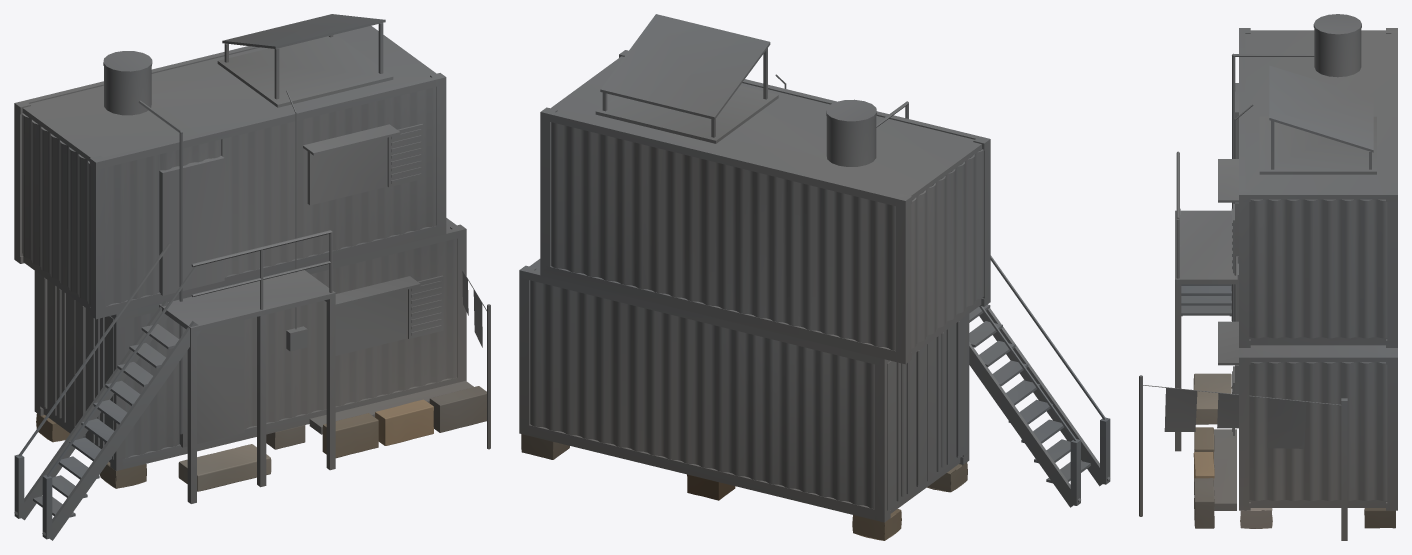
Rendered from WallHomeB_LOD0.glb.
3 renders of one model, left to right at view 1: azimuth 30°, elevation 25°; view 2: azimuth 150°, elevation 25°; view 3: azimuth 270°, elevation 25°, orthographic. The views are drawn at different scales.
Parts seen in each view (by area): view 1: WallHomeB_Metal_LOD0, WallHomeB_Rubble_LOD0, WallHomeB_Sand_LOD0, WallHomeB_Canvas_LOD0; view 2: WallHomeB_Metal_LOD0, WallHomeB_Rubble_LOD0; view 3: WallHomeB_Metal_LOD0, WallHomeB_Rubble_LOD0, WallHomeB_Canvas_LOD0, WallHomeB_Sand_LOD0.
Part boxes in pixels (x1,y1,x2,y2): WallHomeB_Metal_LOD0: [14, 14, 490, 540]; WallHomeB_Rubble_LOD0: [36, 386, 486, 491]; WallHomeB_Sand_LOD0: [309, 381, 473, 434]; WallHomeB_Canvas_LOD0: [462, 271, 482, 347]; WallHomeB_Metal_LOD0: [519, 14, 1110, 522]; WallHomeB_Rubble_LOD0: [521, 434, 967, 540]; WallHomeB_Metal_LOD0: [1139, 14, 1397, 540]; WallHomeB_Rubble_LOD0: [1193, 373, 1395, 528]; WallHomeB_Canvas_LOD0: [1164, 388, 1306, 448]; WallHomeB_Sand_LOD0: [1214, 429, 1236, 510].
Bounding box in the file's own units: 8.27 × 6.51 × 3.97.
